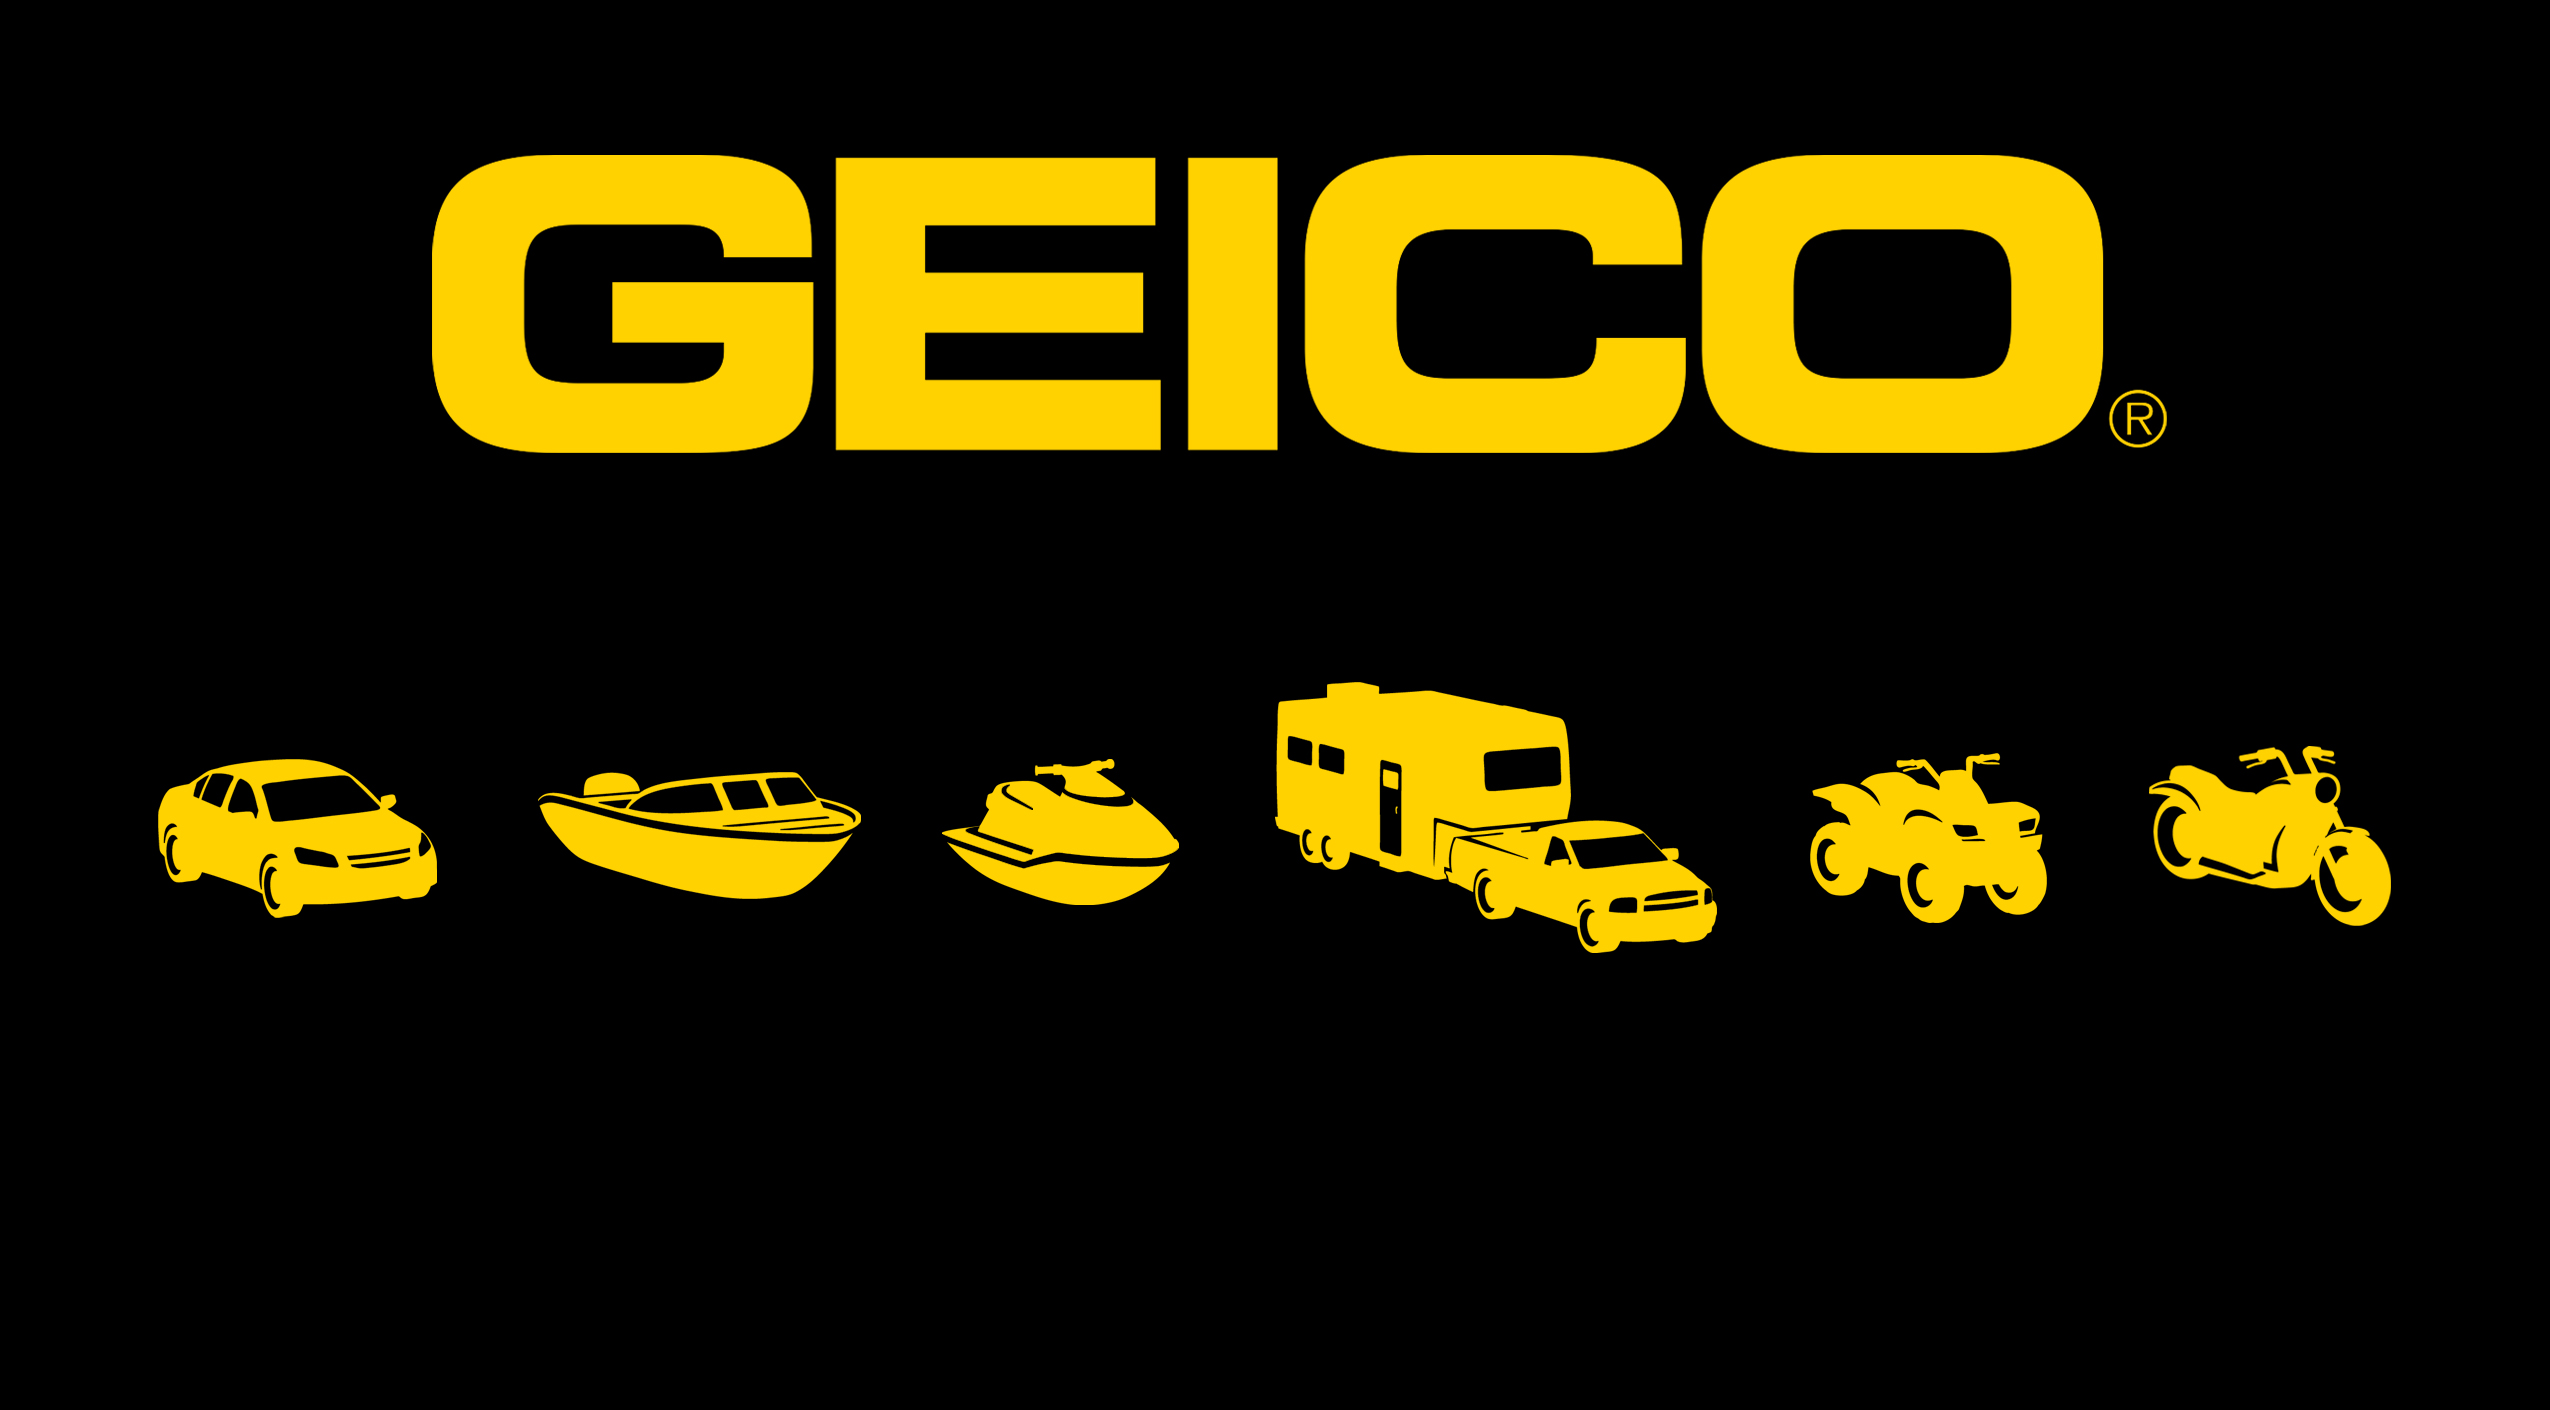geico: (404, 141, 2215, 486)
